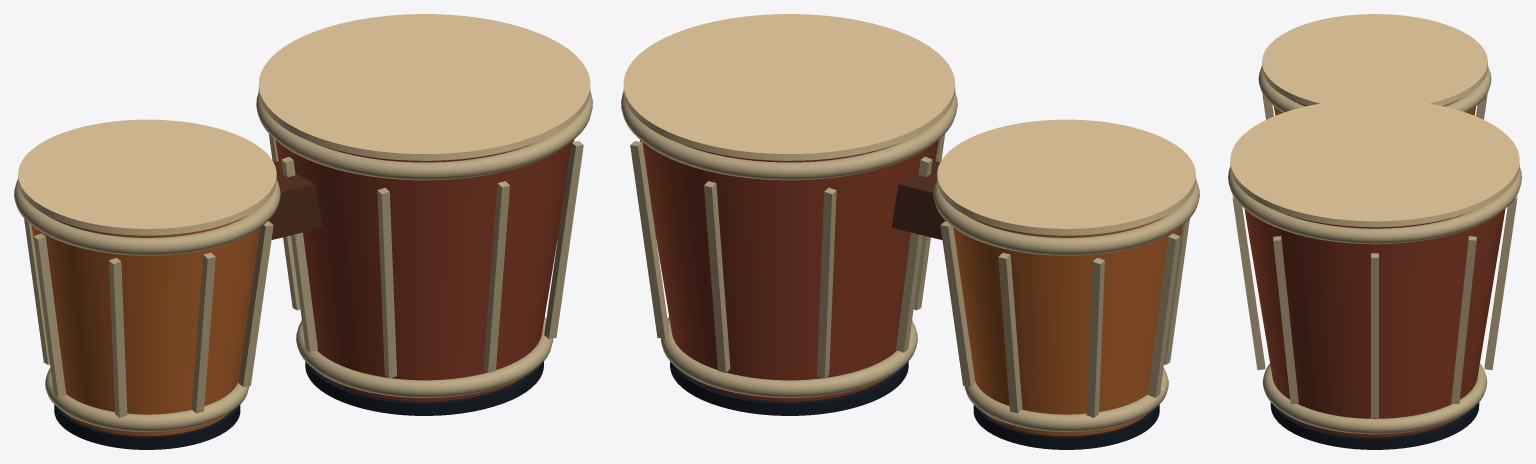
3 renders of one model, left to right at view 1: azimuth 30°, elevation 25°; view 2: azimuth 150°, elevation 25°; view 3: azimuth 270°, elevation 25°, orthographic. The views are drawn at different scales.
Size of the model in its own units: 2.81 by 1.41 by 1.52.
